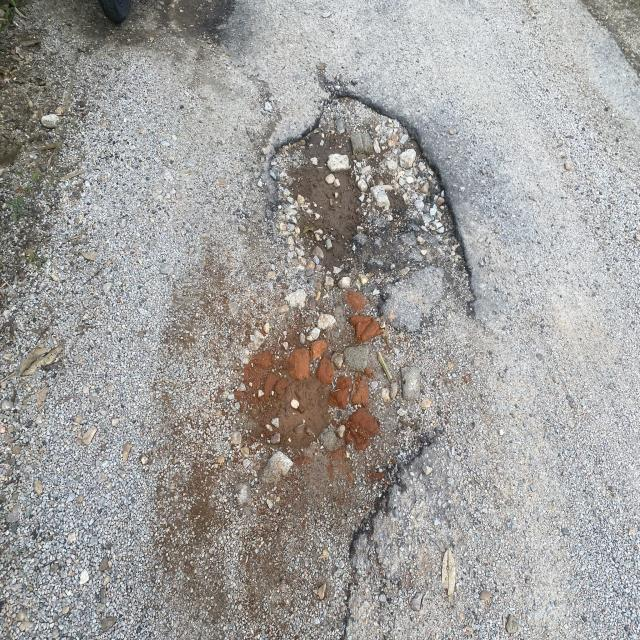Pothole: (200, 48, 526, 613)
